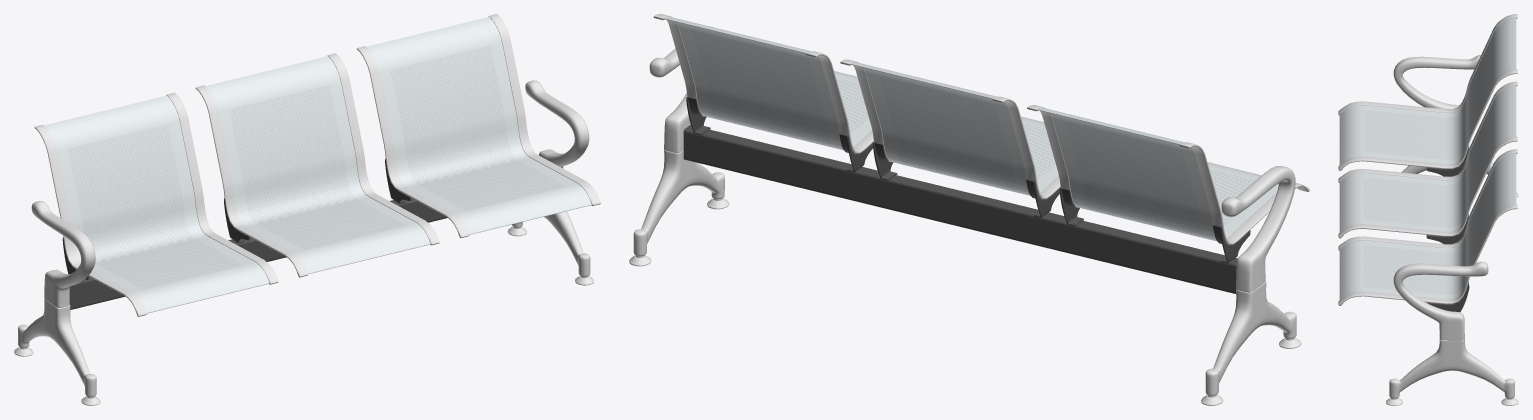
Rendered from waiting_chair.glb.
The picture shows the model from 3 angles, left to right: view 1: azimuth 30°, elevation 25°; view 2: azimuth 150°, elevation 25°; view 3: azimuth 270°, elevation 25°; orthographic projection. The views are drawn at different scales.
Visible parts, largest first — view 1: Waiting Bench (3 Seats); view 2: Waiting Bench (3 Seats); view 3: Waiting Bench (3 Seats).
Boxes of the visible parts, x1,y1,x2,y2 form: Waiting Bench (3 Seats): [14, 14, 600, 405]; Waiting Bench (3 Seats): [629, 14, 1309, 405]; Waiting Bench (3 Seats): [1338, 14, 1518, 405].
Bounding box in the file's own units: 2.31 × 0.9475 × 0.8215.
Materials: 1 (1 with a texture image).
